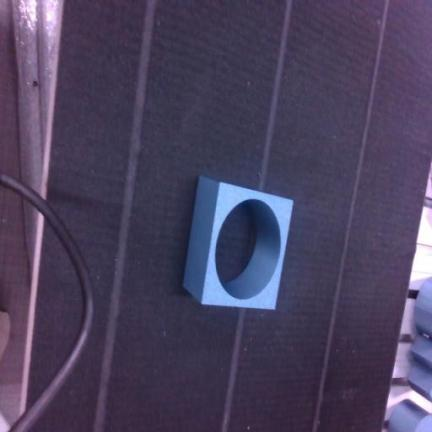hole: (184, 177, 292, 309)
